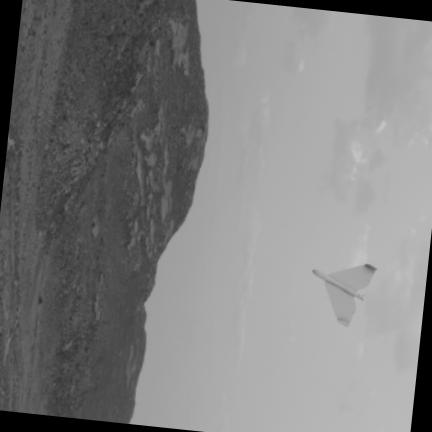Shahed: (312, 264, 376, 327)
